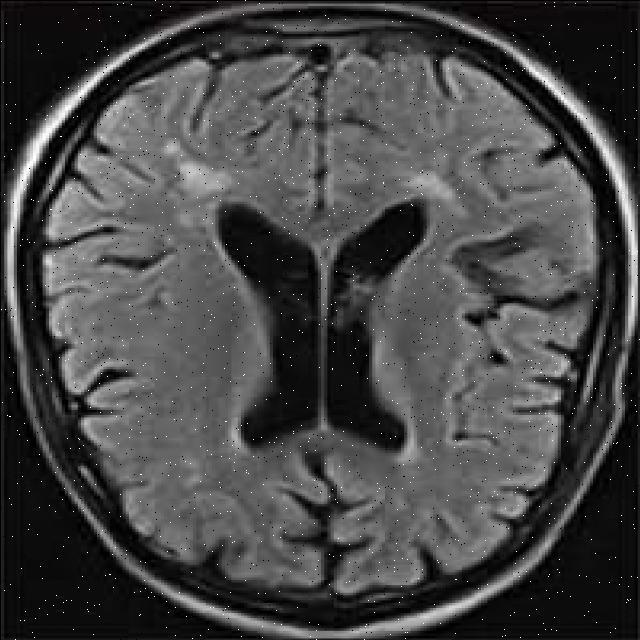No_Tumor: (5, 2, 637, 639)
